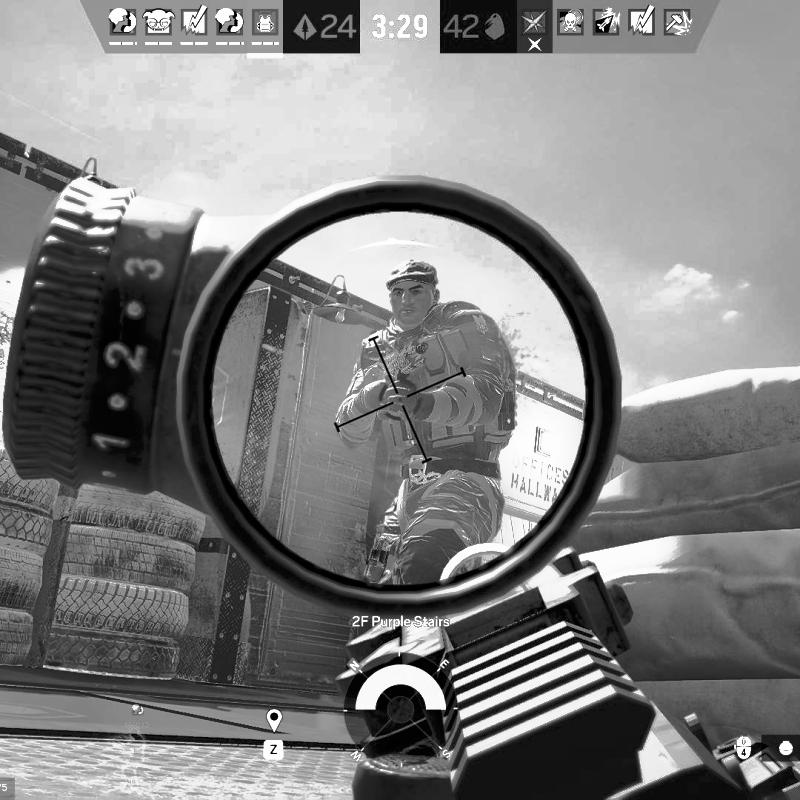Character: (331, 258, 518, 589)
Head: (386, 256, 445, 326)
